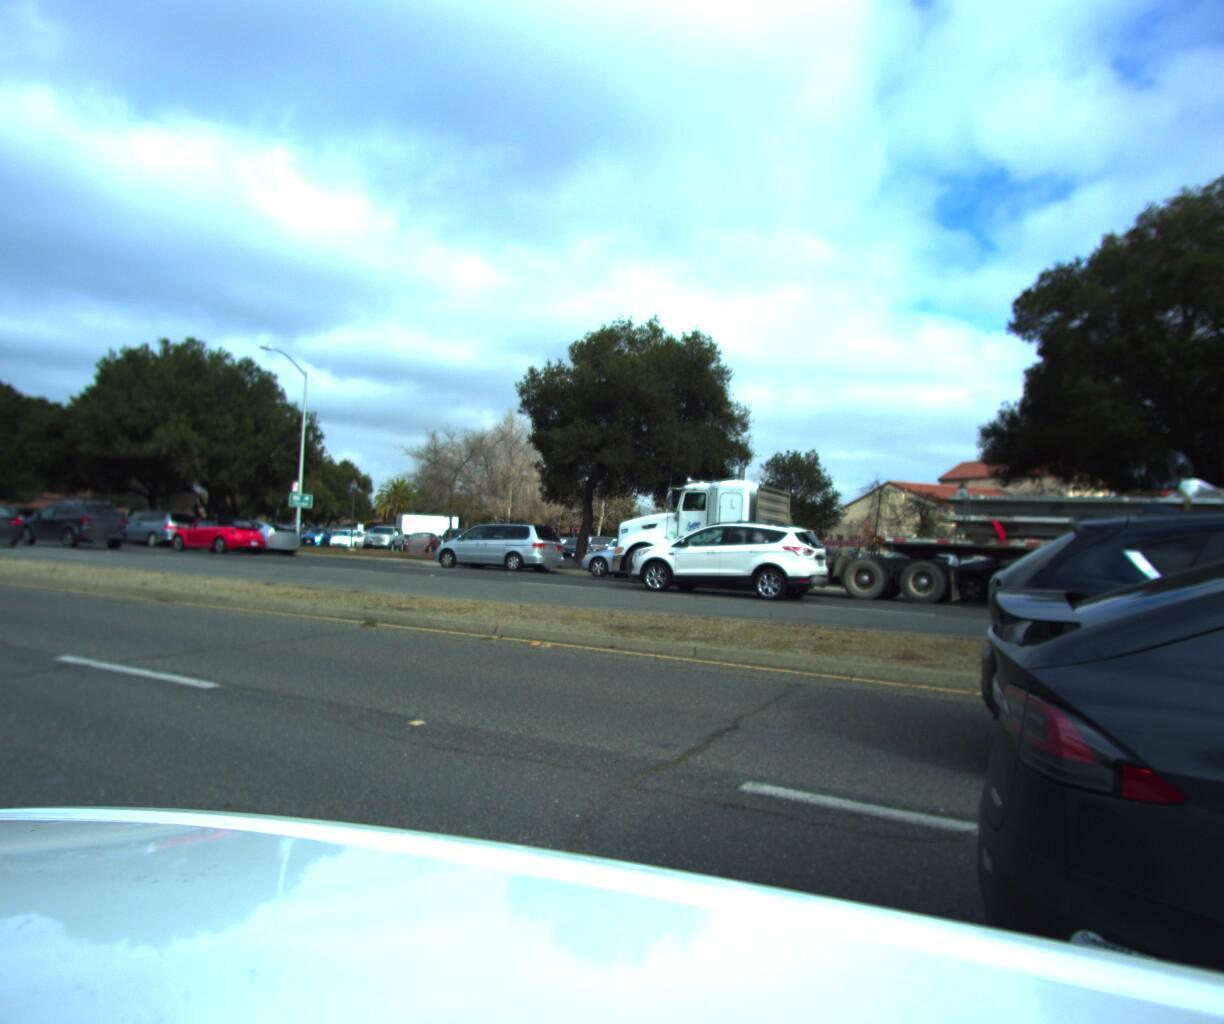car: (918, 484, 1224, 997), (618, 509, 842, 599), (940, 531, 1140, 612), (426, 511, 569, 569), (572, 529, 732, 580), (5, 491, 132, 547), (159, 504, 276, 553), (105, 504, 207, 546), (204, 511, 306, 553), (0, 498, 29, 544)
truck: (582, 414, 1224, 662)
